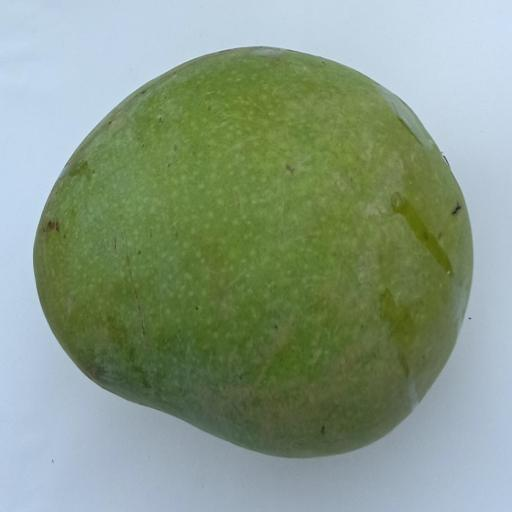mango-unripe: (22, 25, 495, 474)
